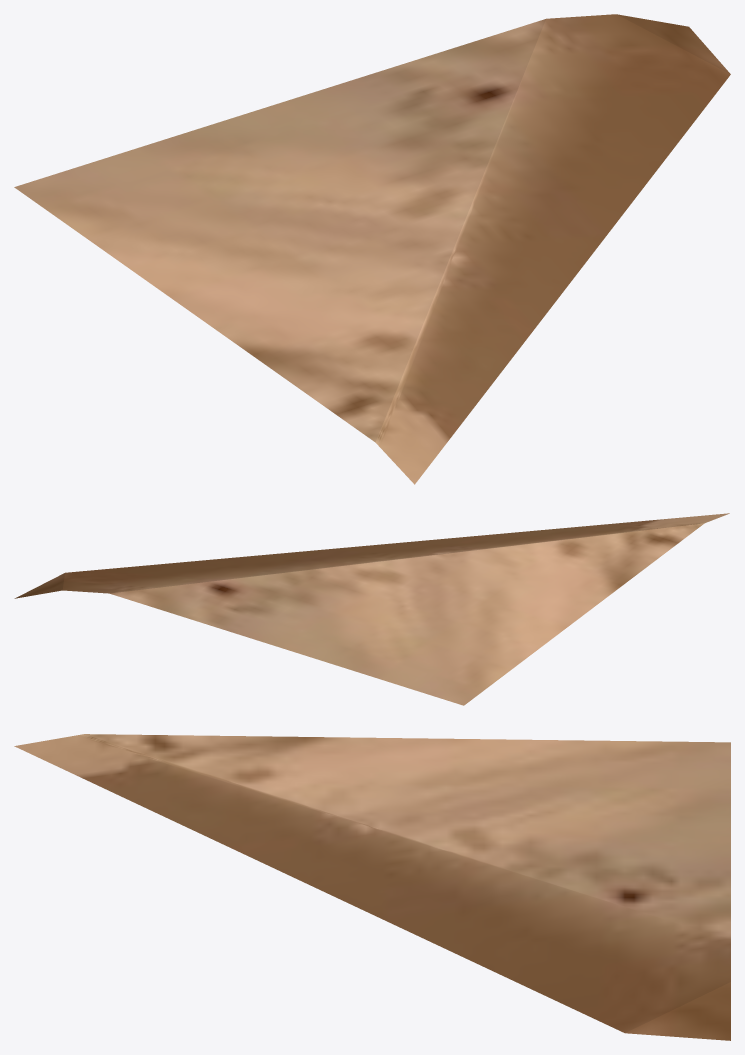
The picture shows the model from 3 angles, top to bottom: view 1: azimuth 30°, elevation 25°; view 2: azimuth 150°, elevation 25°; view 3: azimuth 270°, elevation 25°; orthographic projection. The views are drawn at different scales.
Size of the model in its own units: 0.3058 by 0.0185 by 0.3144.
Materials: 1 (1 with a texture image).
